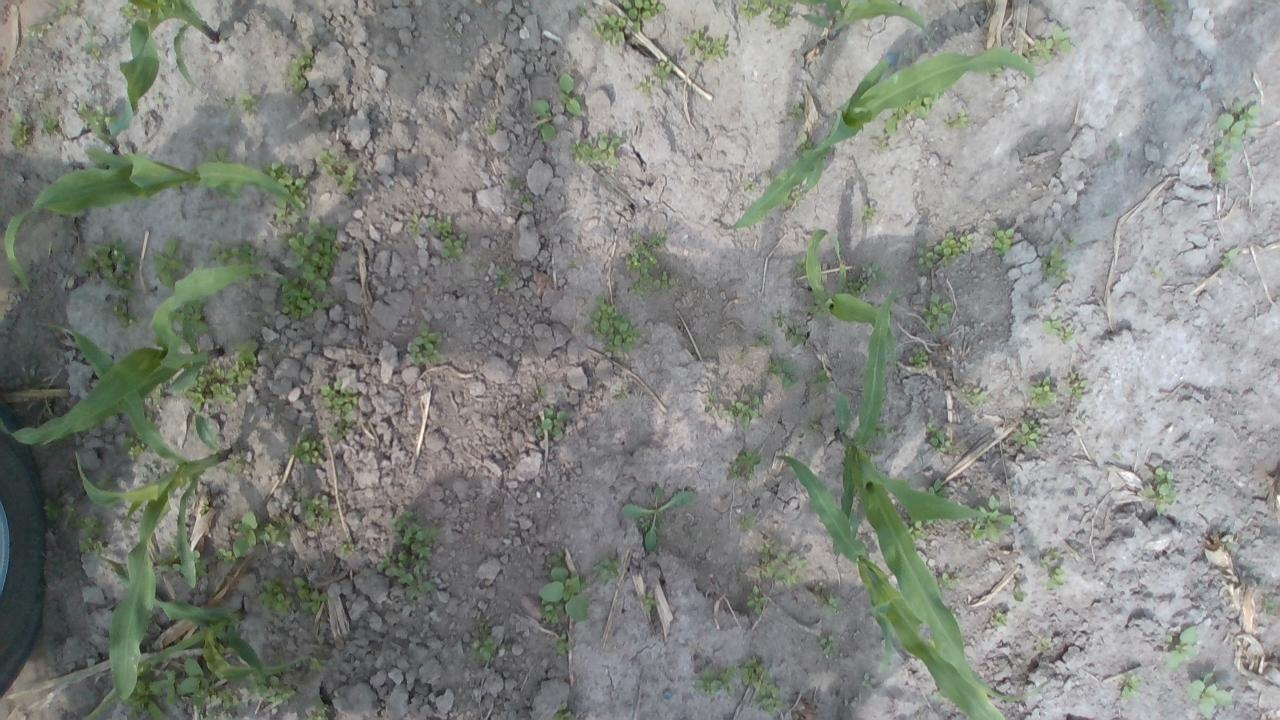Maize: (826, 286, 1052, 702), (33, 316, 232, 720), (778, 454, 1011, 720), (728, 47, 1034, 229), (0, 262, 276, 450), (3, 147, 310, 292), (68, 558, 305, 720), (100, 0, 218, 143), (804, 227, 897, 373), (794, 0, 928, 40)
Weeds: (620, 482, 699, 554), (280, 218, 340, 294), (78, 235, 138, 301), (538, 554, 594, 624), (256, 158, 308, 224), (210, 339, 258, 408), (588, 294, 642, 354), (120, 665, 178, 720), (374, 550, 437, 600), (274, 270, 334, 320), (747, 542, 809, 588), (232, 511, 290, 560), (741, 654, 788, 714), (1215, 96, 1260, 158), (387, 508, 440, 560), (316, 378, 358, 440), (1142, 464, 1184, 518), (63, 506, 108, 556), (1184, 673, 1232, 719), (177, 654, 212, 713), (1022, 26, 1074, 65), (567, 132, 623, 168), (969, 496, 1010, 544), (172, 298, 208, 352), (318, 146, 358, 194), (424, 214, 466, 258), (150, 239, 186, 289), (684, 24, 730, 63), (1162, 625, 1200, 671), (836, 262, 881, 298), (1203, 140, 1237, 187), (409, 320, 443, 367), (624, 231, 664, 270), (255, 576, 292, 618), (692, 662, 737, 696), (620, 0, 668, 31), (534, 404, 572, 443), (1038, 240, 1070, 286), (920, 294, 956, 334), (933, 231, 973, 267), (256, 670, 292, 710), (286, 48, 316, 95), (925, 421, 962, 458), (210, 238, 258, 266), (724, 393, 764, 426), (904, 87, 945, 119), (76, 100, 112, 136), (557, 71, 584, 119), (294, 574, 328, 612), (628, 268, 672, 296), (300, 493, 334, 529), (530, 95, 556, 142), (590, 14, 628, 46), (290, 430, 325, 464), (765, 357, 801, 390), (1040, 549, 1068, 589), (1040, 312, 1076, 342), (1011, 416, 1042, 450), (1028, 375, 1058, 407), (902, 513, 936, 541), (727, 450, 761, 478), (211, 682, 242, 712), (744, 584, 772, 616), (110, 302, 144, 328), (118, 432, 147, 461), (989, 223, 1014, 255), (184, 373, 206, 409), (592, 557, 620, 585), (155, 544, 181, 574), (469, 636, 499, 662), (735, 0, 771, 21), (768, 0, 795, 27), (8, 112, 28, 146), (808, 368, 834, 394), (1065, 372, 1088, 401), (919, 478, 950, 499), (1120, 674, 1144, 701), (886, 104, 906, 136), (961, 386, 990, 408), (806, 296, 832, 320), (908, 343, 932, 369), (191, 548, 210, 580), (1220, 245, 1244, 269), (816, 634, 838, 660), (944, 109, 971, 130), (913, 246, 934, 272), (302, 701, 330, 720), (934, 572, 960, 592), (39, 111, 60, 135), (654, 59, 672, 87), (821, 592, 841, 616), (217, 182, 242, 201), (917, 548, 935, 574), (550, 631, 568, 657), (796, 131, 816, 154), (782, 184, 802, 207), (95, 470, 115, 493), (785, 327, 809, 346), (210, 544, 235, 562), (80, 40, 102, 60), (238, 93, 258, 114), (52, 0, 73, 20), (989, 610, 1010, 629), (43, 498, 61, 520), (550, 702, 572, 720), (871, 421, 890, 441), (208, 146, 227, 165), (145, 382, 163, 402), (636, 74, 652, 96), (226, 453, 242, 475), (862, 671, 880, 690), (408, 214, 422, 238), (736, 511, 754, 529), (787, 100, 804, 119), (704, 393, 720, 413), (794, 252, 808, 274), (1152, 0, 1174, 13), (753, 334, 773, 348), (1261, 596, 1280, 610), (494, 270, 507, 290), (485, 119, 500, 136), (872, 138, 889, 153), (641, 592, 656, 609), (986, 64, 1004, 78), (310, 658, 328, 672), (1148, 264, 1163, 280), (742, 178, 759, 192), (124, 2, 138, 18), (1036, 635, 1052, 648), (774, 311, 786, 328), (1012, 589, 1026, 602), (862, 207, 876, 220), (1068, 233, 1080, 248), (516, 193, 531, 204), (143, 409, 153, 424), (766, 166, 777, 178), (200, 496, 209, 509), (1226, 542, 1236, 553), (617, 390, 626, 400)
